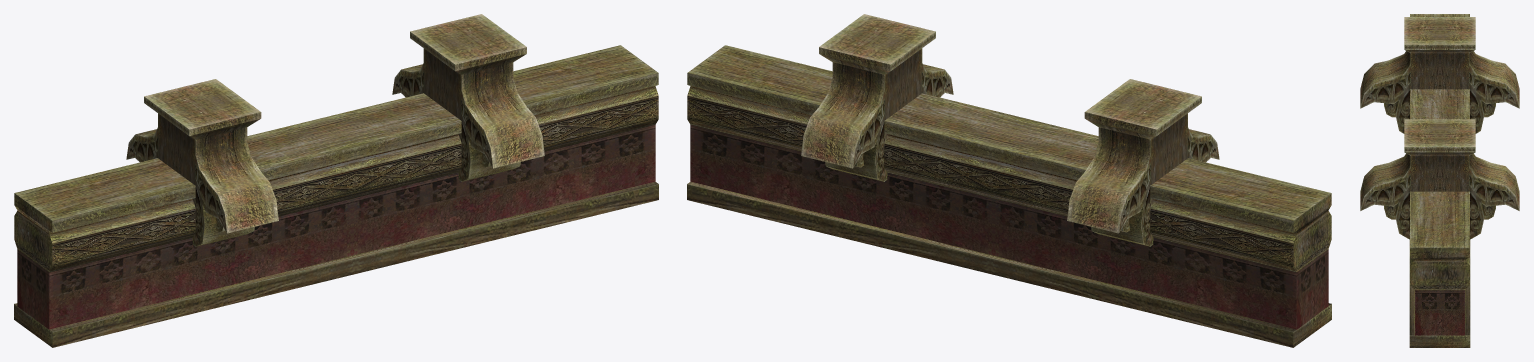
File: 2st_wall_001.fbx
3 renders of one model, left to right at view 1: azimuth 30°, elevation 25°; view 2: azimuth 150°, elevation 25°; view 3: azimuth 270°, elevation 25°, orthographic. The views are drawn at different scales.
Parts seen in each view (by area): view 1: Object04; view 2: Object04; view 3: Object04.
Boxes of the visible parts, left/top/right/bottom form: Object04: left=14, top=14, right=658, bottom=347; Object04: left=687, top=14, right=1331, bottom=347; Object04: left=1360, top=14, right=1519, bottom=347.
Size of the model in its own units: 12.58 by 3.74 by 3.62.
